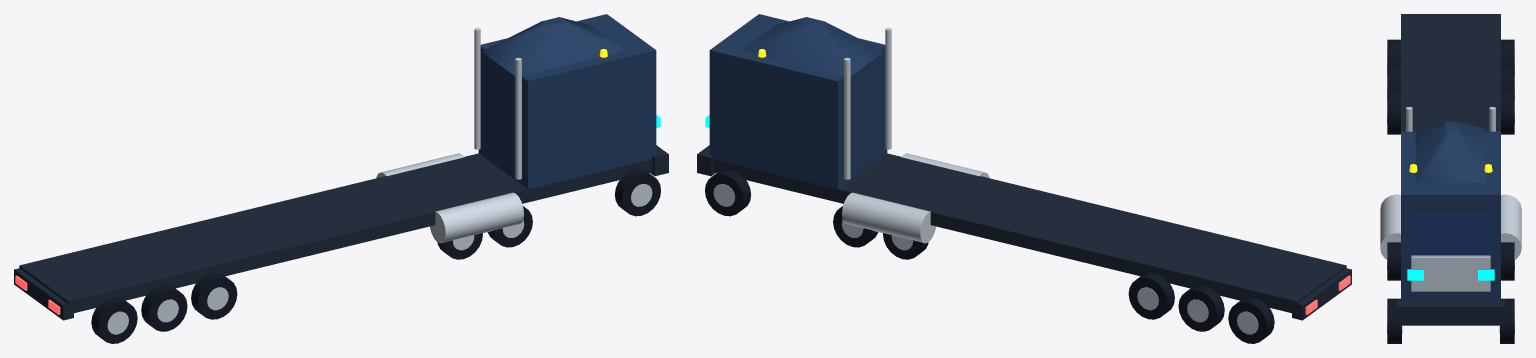
File: carga-truck.glb
3 views of the same model, side by side, from view 1: azimuth 30°, elevation 25°; view 2: azimuth 150°, elevation 25°; view 3: azimuth 270°, elevation 25° (orthographic).
Visible parts, largest first — view 1: CargaTruck; view 2: CargaTruck; view 3: CargaTruck.
Boxes of the visible parts, x1=… form: CargaTruck: x1=14, y1=14, x2=668, y2=343; CargaTruck: x1=697, y1=14, x2=1351, y2=343; CargaTruck: x1=1380, y1=14, x2=1521, y2=343.
Size of the model in its own units: 17 by 4.98 by 3.4.
